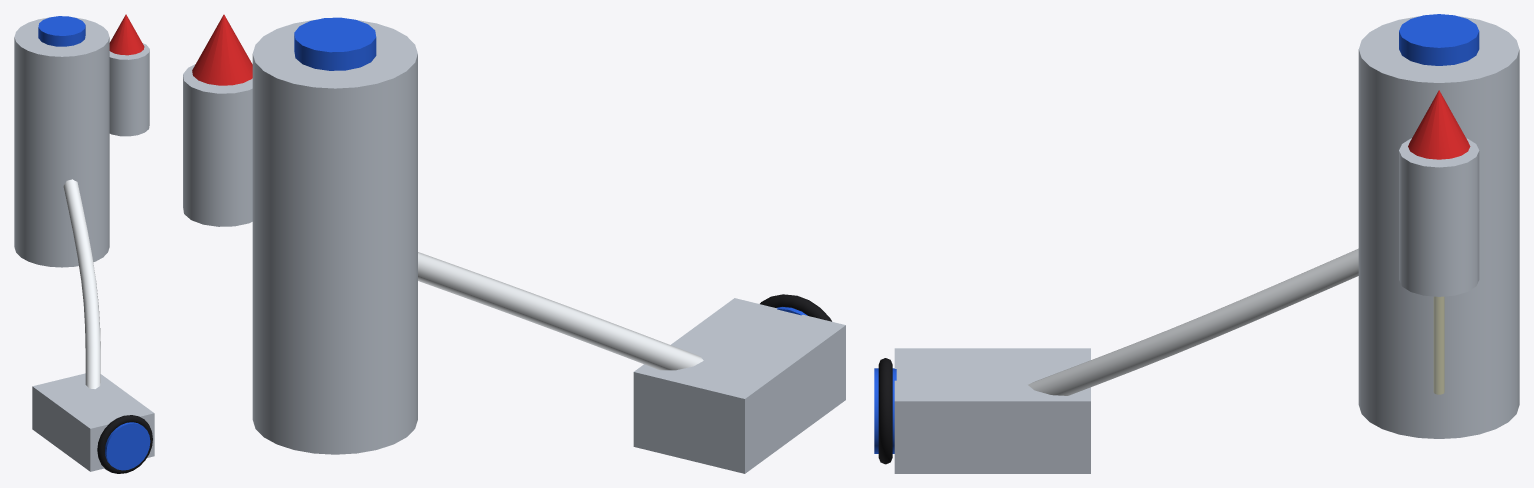
The model's file is dry_sump_system.glb.
3 renders of one model, left to right at view 1: azimuth 30°, elevation 25°; view 2: azimuth 150°, elevation 25°; view 3: azimuth 270°, elevation 25°, orthographic. The views are drawn at different scales.
Visible parts, largest first — view 1: Dry_Sump_Lubrication_Assembly; view 2: Dry_Sump_Lubrication_Assembly; view 3: Dry_Sump_Lubrication_Assembly.
Part boxes in pixels (left/top/right/bottom): Dry_Sump_Lubrication_Assembly: left=14, top=14, right=154, bottom=473; Dry_Sump_Lubrication_Assembly: left=183, top=14, right=845, bottom=473; Dry_Sump_Lubrication_Assembly: left=874, top=14, right=1519, bottom=473.
Bounding box in the file's own units: 0.475 × 0.6325 × 0.7225.
